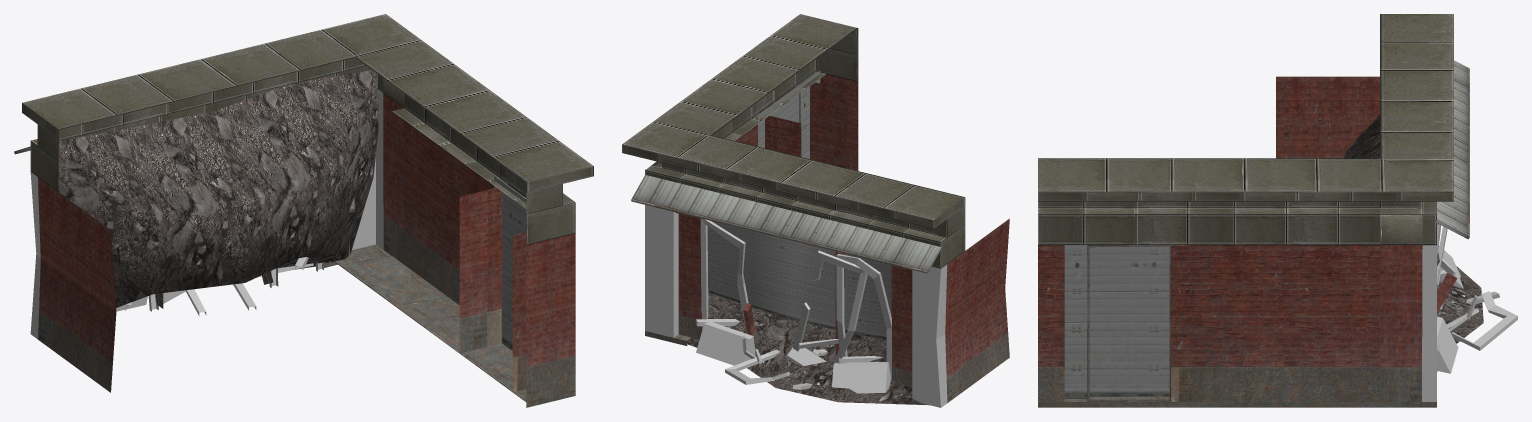
Rendered from Store_front_36.fbx.
3 views of the same model, side by side, from view 1: azimuth 30°, elevation 25°; view 2: azimuth 150°, elevation 25°; view 3: azimuth 270°, elevation 25° (orthographic). The views are drawn at different scales.
Visible parts, largest first — view 1: Store_front_36; view 2: Store_front_36; view 3: Store_front_36.
Part boxes in pixels (left/top/right/bottom): Store_front_36: left=14, top=14, right=593, bottom=407; Store_front_36: left=622, top=14, right=1009, bottom=407; Store_front_36: left=1038, top=14, right=1517, bottom=407.
Size of the model in its own units: 737 by 439 by 842.
